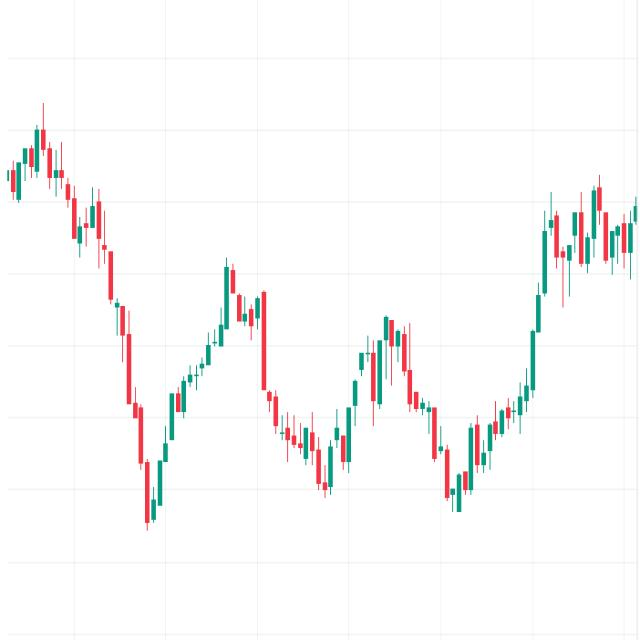Triple-Bottom: (87, 258, 551, 560)
